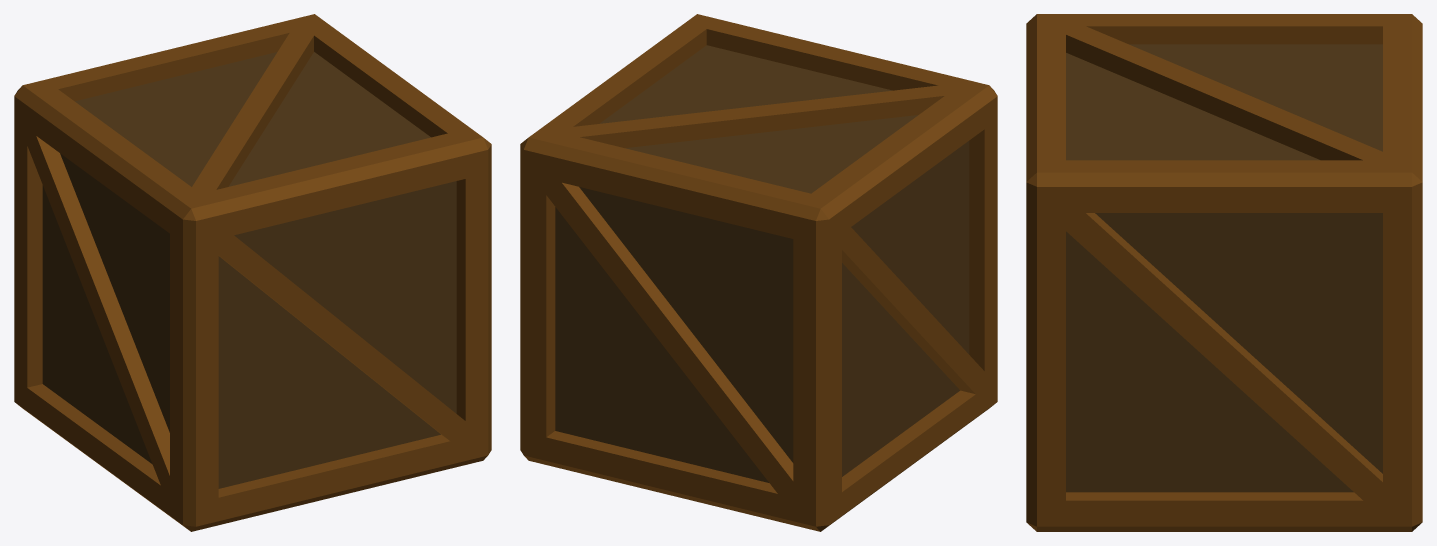
Rendered from Krat.fbx.
3 renders of one model, left to right at view 1: azimuth 30°, elevation 25°; view 2: azimuth 150°, elevation 25°; view 3: azimuth 270°, elevation 25°, orthographic. The views are drawn at different scales.
Visible parts, largest first — view 1: crate; view 2: crate; view 3: crate.
Part boxes in pixels (x1=…): crate: x1=14, y1=14, x2=491, y2=531; crate: x1=520, y1=14, x2=997, y2=531; crate: x1=1026, y1=14, x2=1422, y2=531.
Size of the model in its own units: 0.5 by 0.5 by 0.5.
